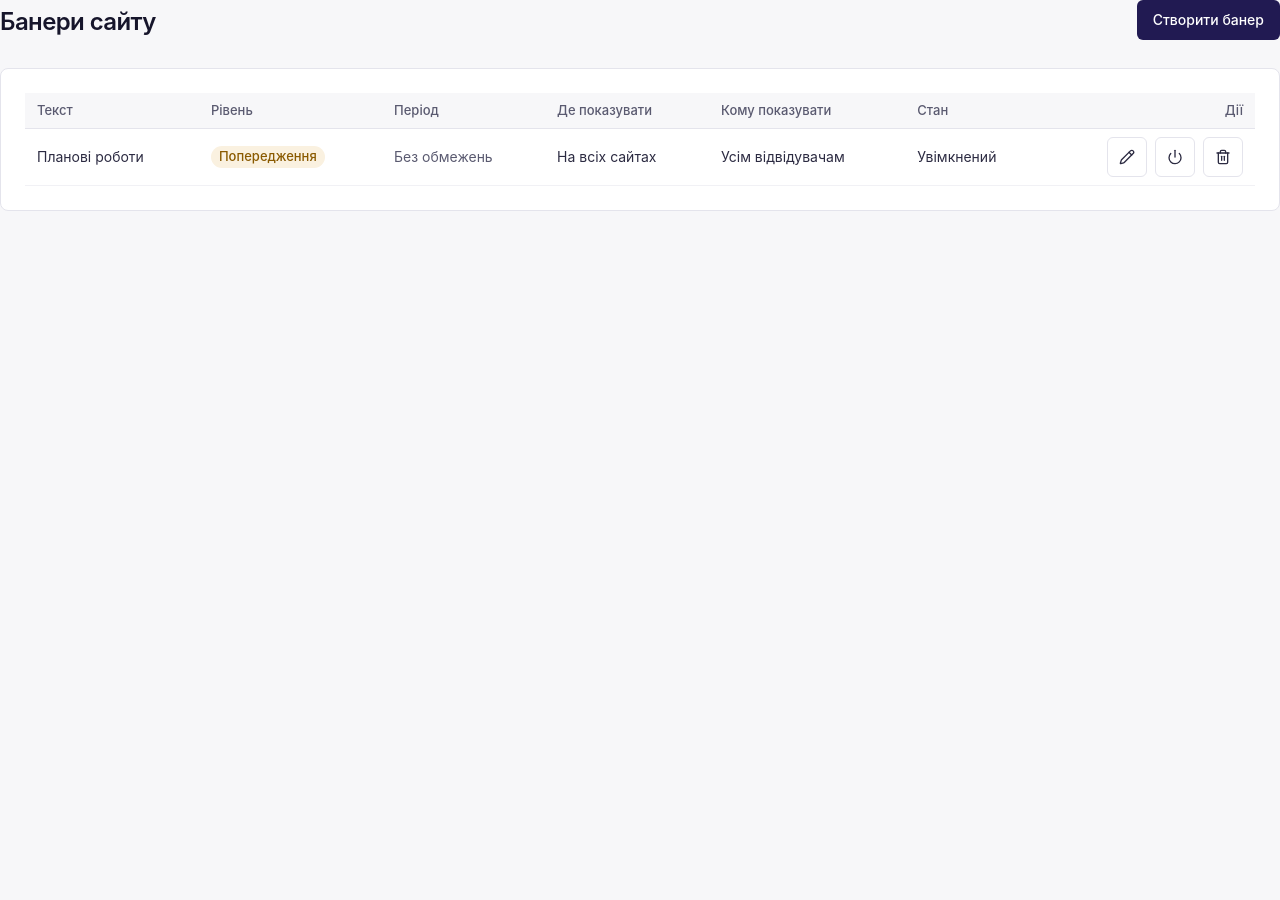
Scenario: banners admin page › blocks saving an empty text or a bad link
Expected: the text "Планові роботи" is shown, [37, 147, 144, 167]
Step 1. Click the button "Створити банер" → x=1208, y=20, box [1137, 0, 1279, 40]
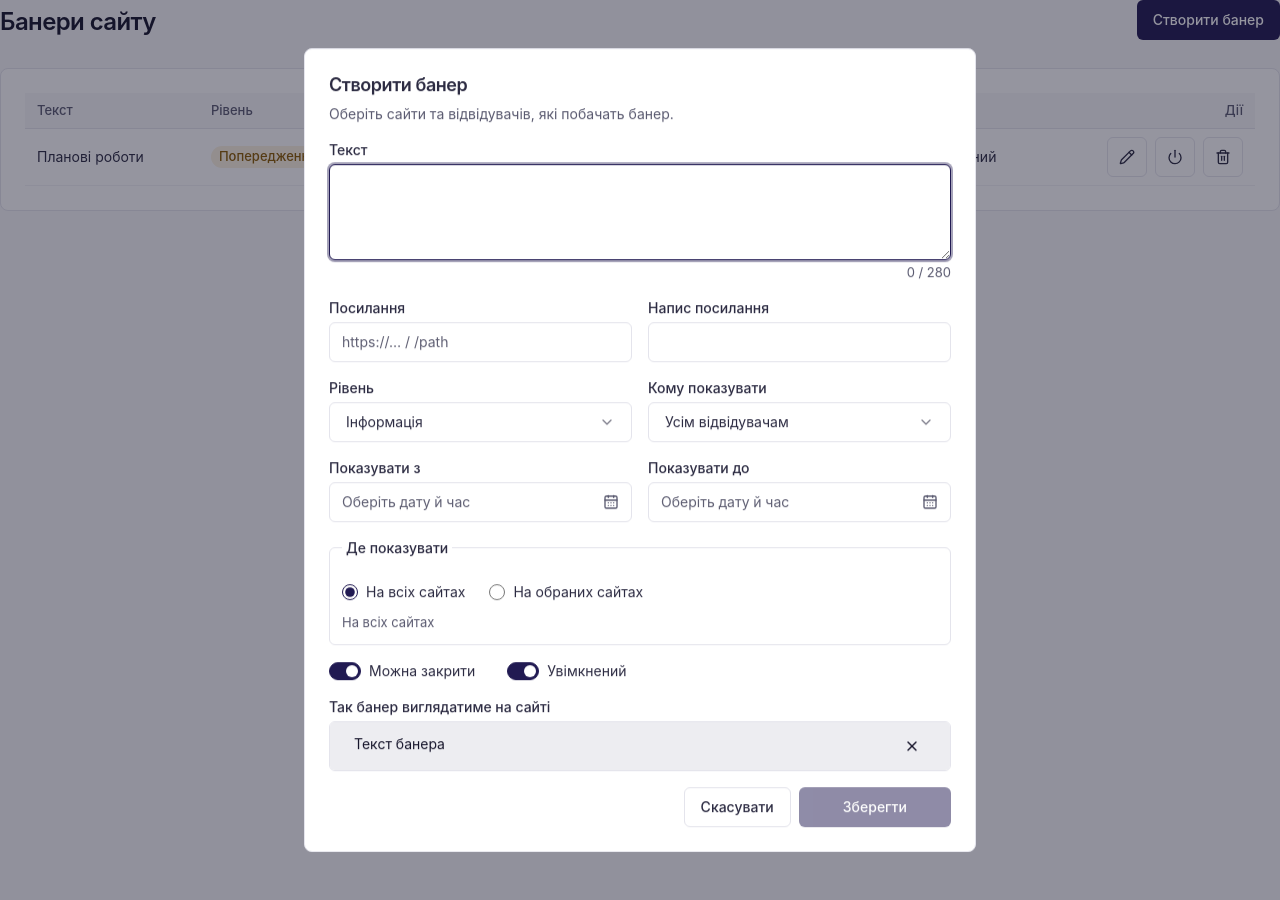
Result: the button "Зберегти" is disabled at [799, 787, 951, 827]
Step 2. Type "Текст" into the text box labelled "Текст" → x=640, y=212, box [329, 164, 951, 260]
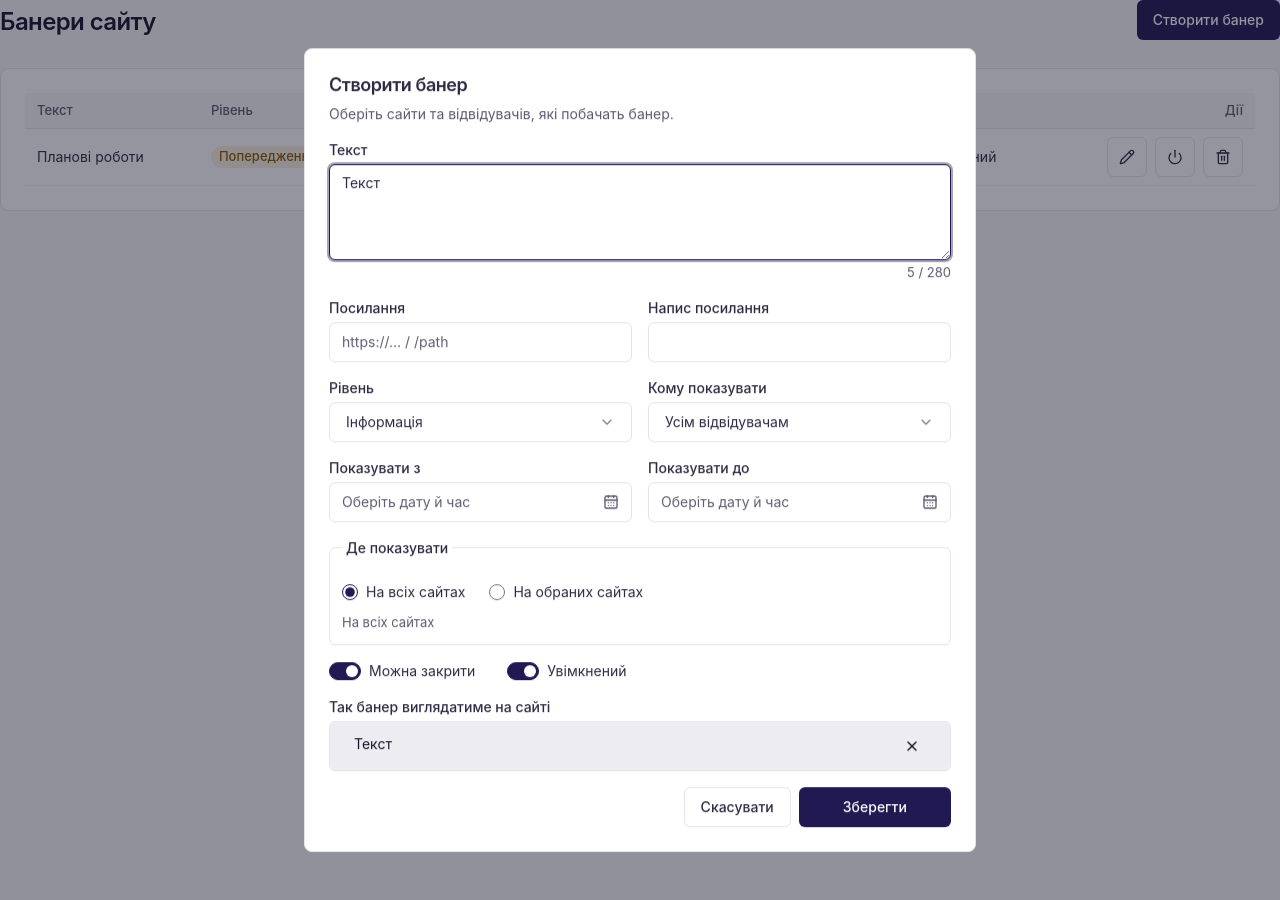
Step 3. Type "javascript:1" into the field labelled "Посилання" → x=480, y=342, box [329, 322, 632, 362]
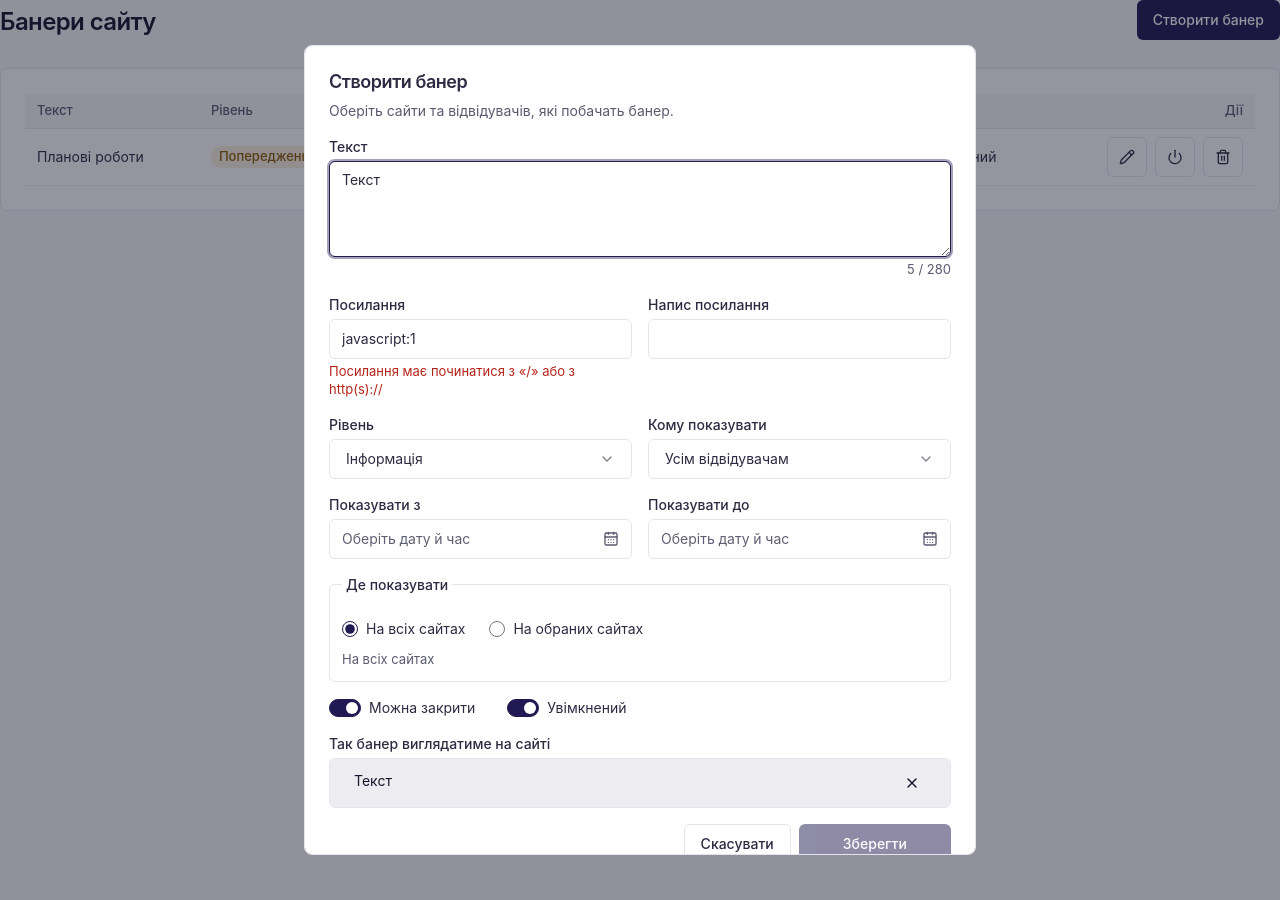
Result: the button "Зберегти" is disabled at [799, 824, 951, 855]
